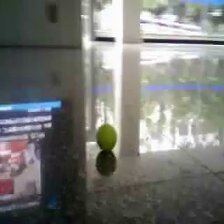tennis: (95, 124, 117, 150)
